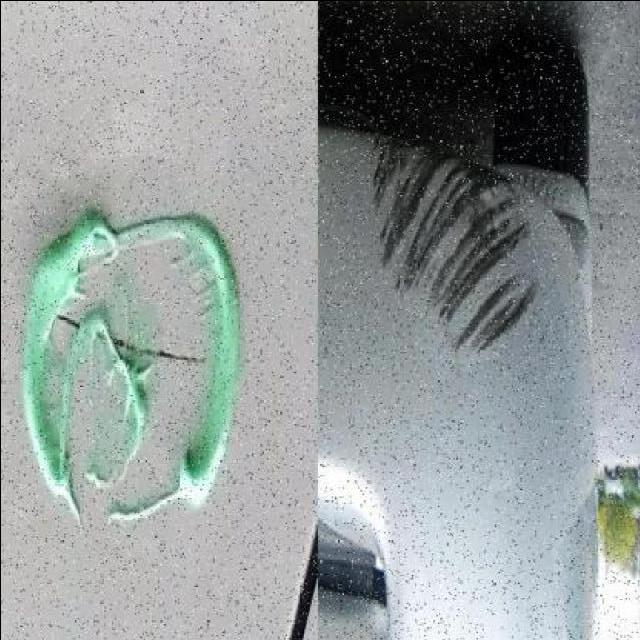rear-bumper-dent: (326, 90, 606, 634)
